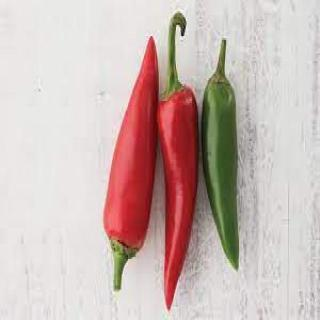Cabai Hijau: (203, 41, 238, 273)
Cabai Merah: (103, 39, 158, 292), (157, 14, 200, 313)
